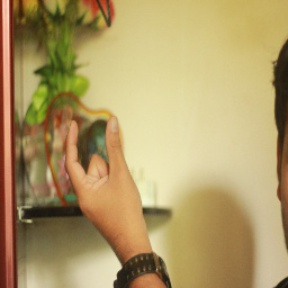U: (61, 109, 149, 231)
